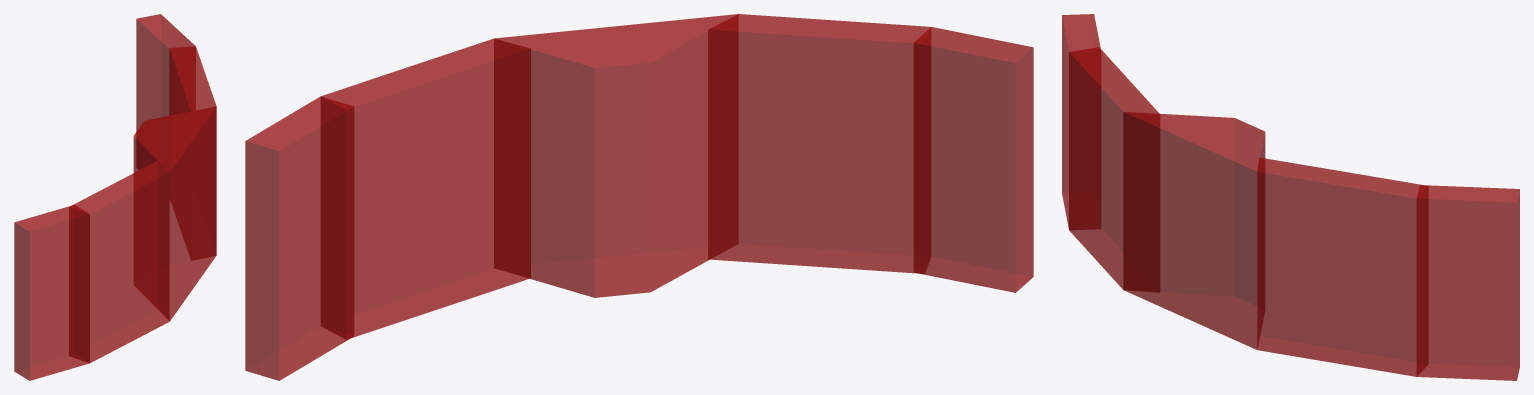
Rendered from SM_Prop_Barrier_Rail_Bend_01_Collision.fbx.
3 renders of one model, left to right at view 1: azimuth 30°, elevation 25°; view 2: azimuth 150°, elevation 25°; view 3: azimuth 270°, elevation 25°, orthographic. The views are drawn at different scales.
Parts seen in each view (by area): view 1: SM_Prop_Barrier_Rail_Bend_01_Collision; view 2: SM_Prop_Barrier_Rail_Bend_01_Collision; view 3: SM_Prop_Barrier_Rail_Bend_01_Collision.
Part boxes in pixels (x1,y1,x2,y2): SM_Prop_Barrier_Rail_Bend_01_Collision: (14,14,216,380); SM_Prop_Barrier_Rail_Bend_01_Collision: (245,14,1033,380); SM_Prop_Barrier_Rail_Bend_01_Collision: (1062,14,1519,380).
Bounding box in the file's own units: 239 × 105 × 245.
